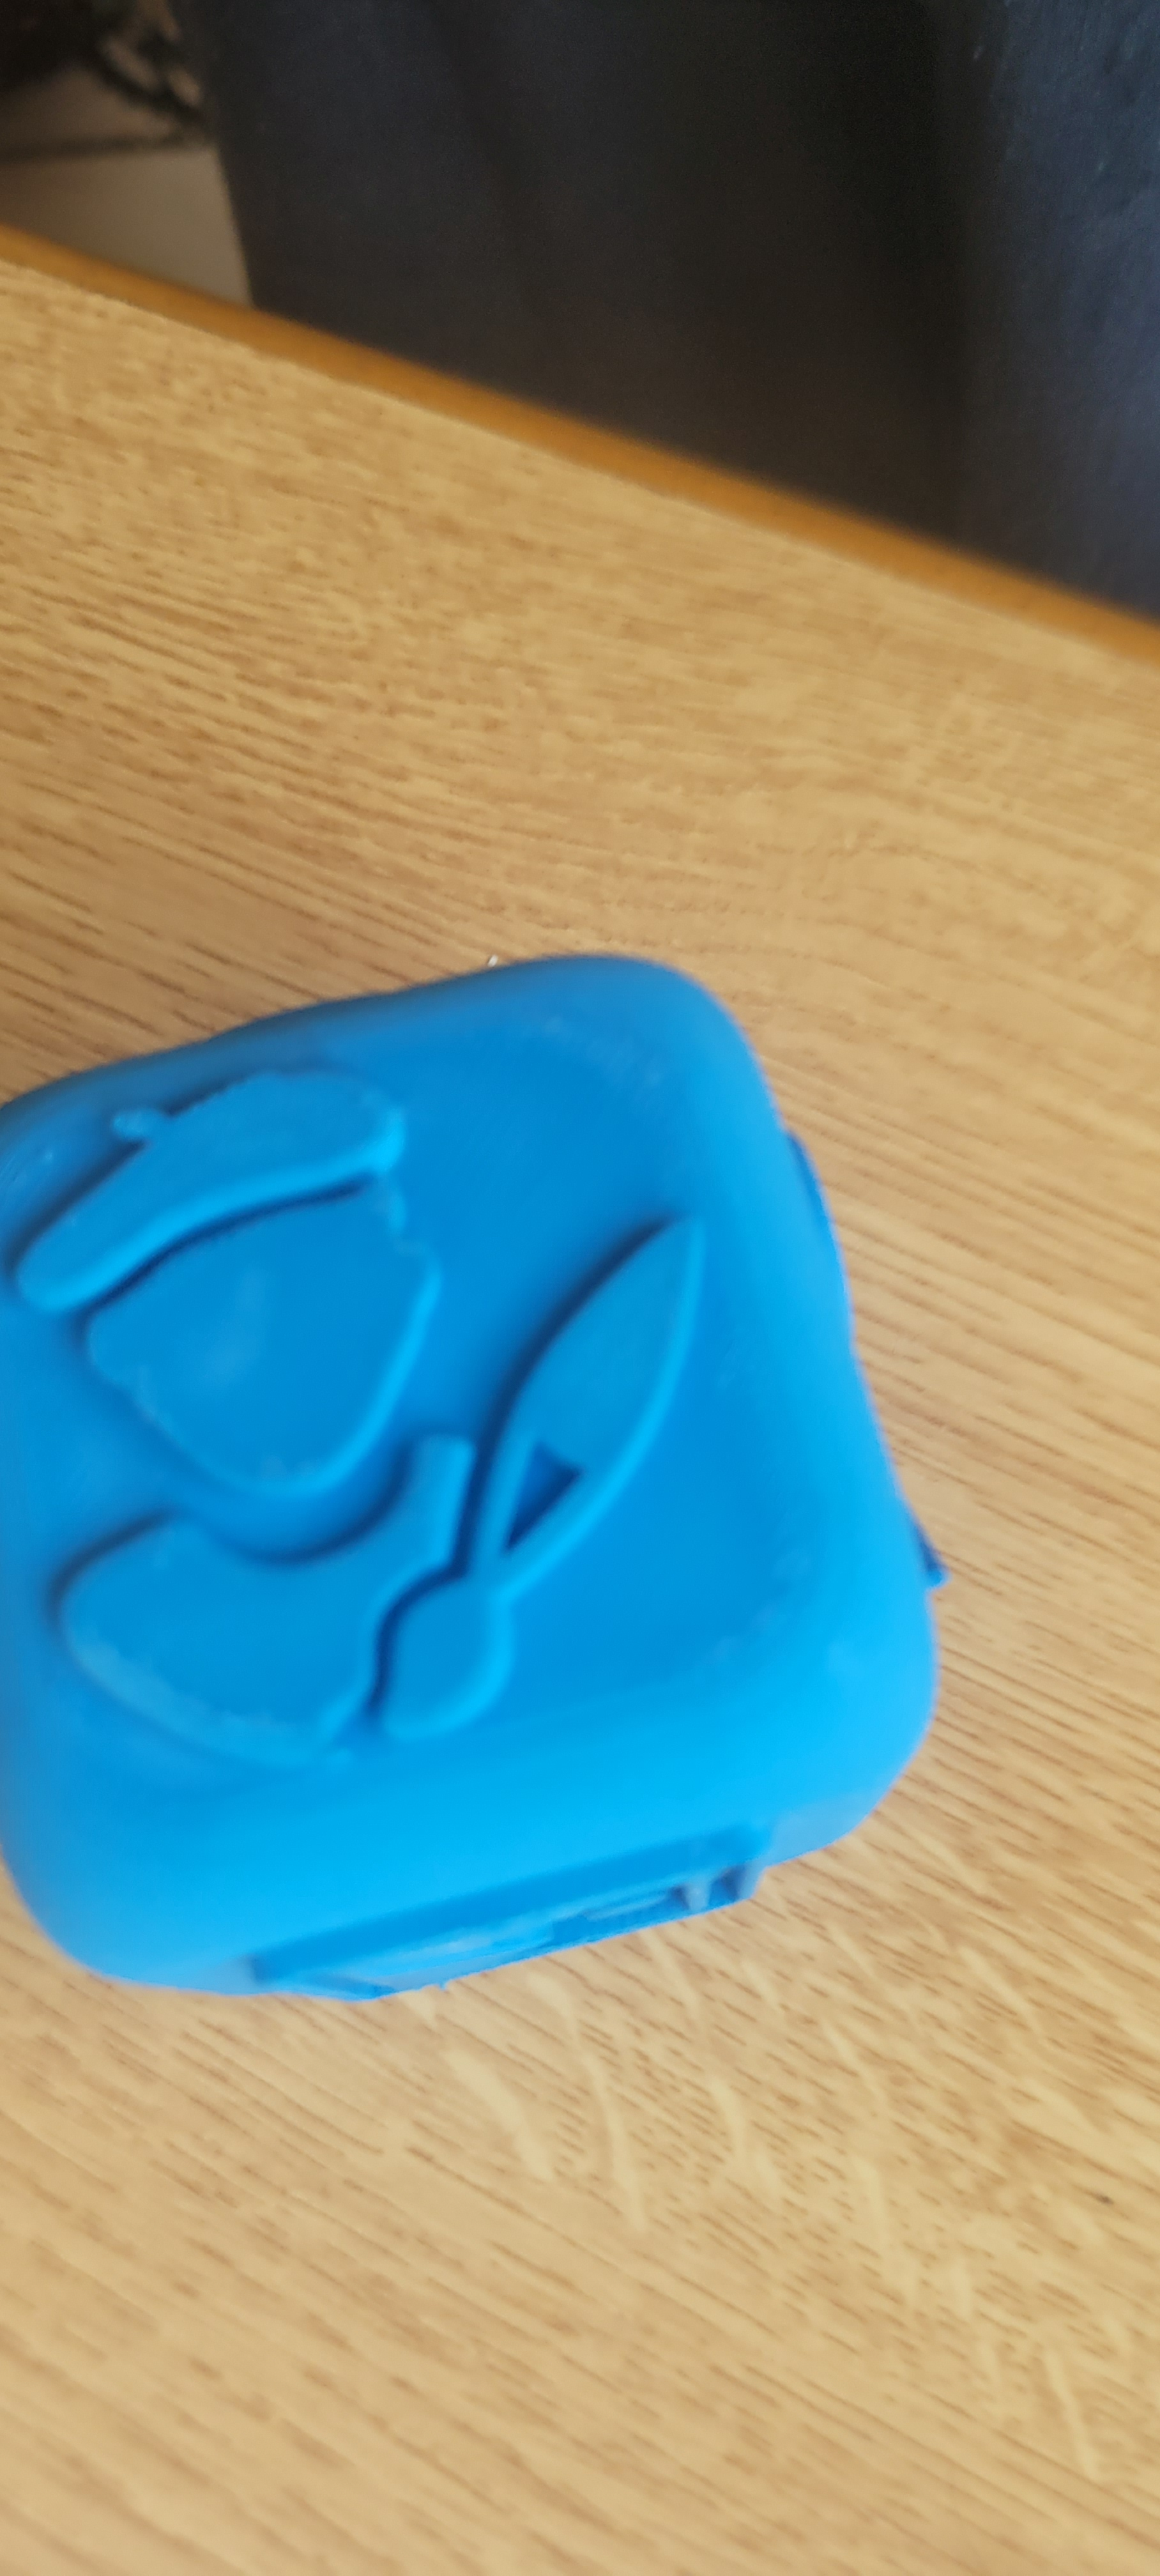Artist_Info: (0, 936, 810, 1934)
